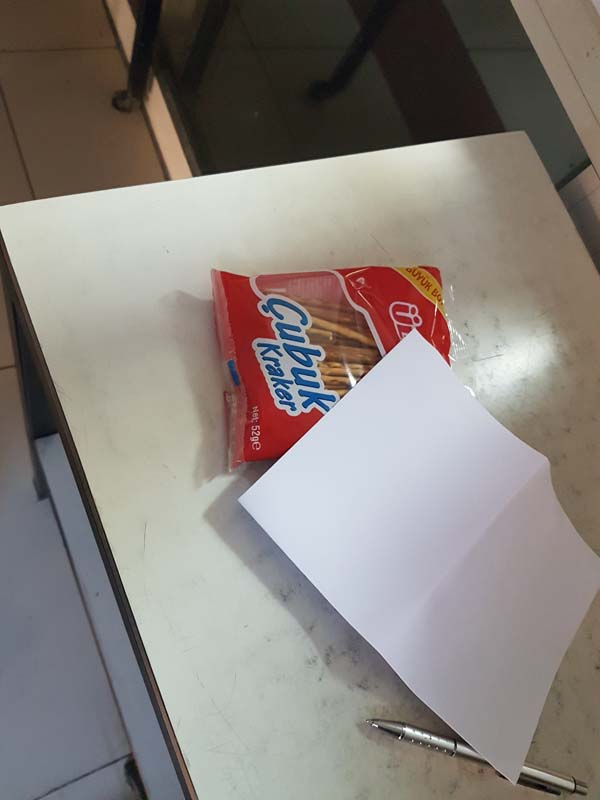eticubuk: (204, 260, 470, 471)
